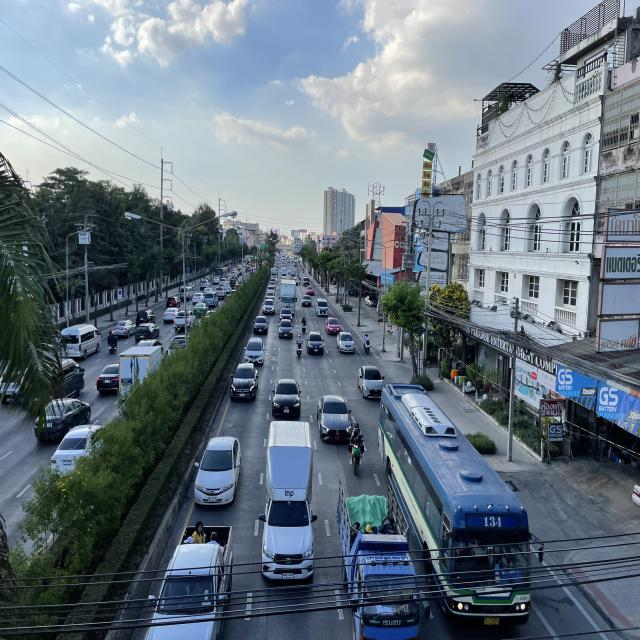bike: (348, 421, 366, 475), (295, 334, 304, 359), (363, 332, 371, 356), (300, 314, 306, 334)
bus: (381, 385, 545, 633)
car: (146, 521, 236, 640), (317, 393, 354, 445), (272, 378, 302, 419), (357, 364, 386, 401), (243, 336, 266, 366), (306, 331, 325, 355), (336, 332, 356, 354), (278, 319, 294, 340), (253, 315, 269, 335), (325, 316, 342, 334), (315, 297, 329, 317)
truck: (339, 475, 430, 640), (260, 418, 318, 587), (280, 279, 297, 317)
